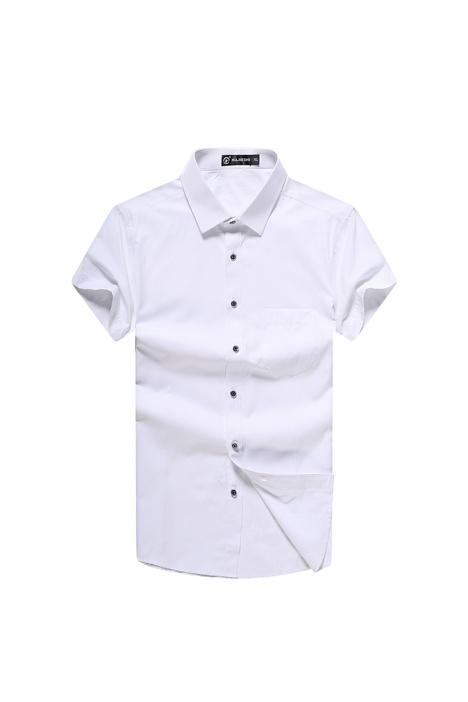C_shirt: (74, 148, 398, 581)
